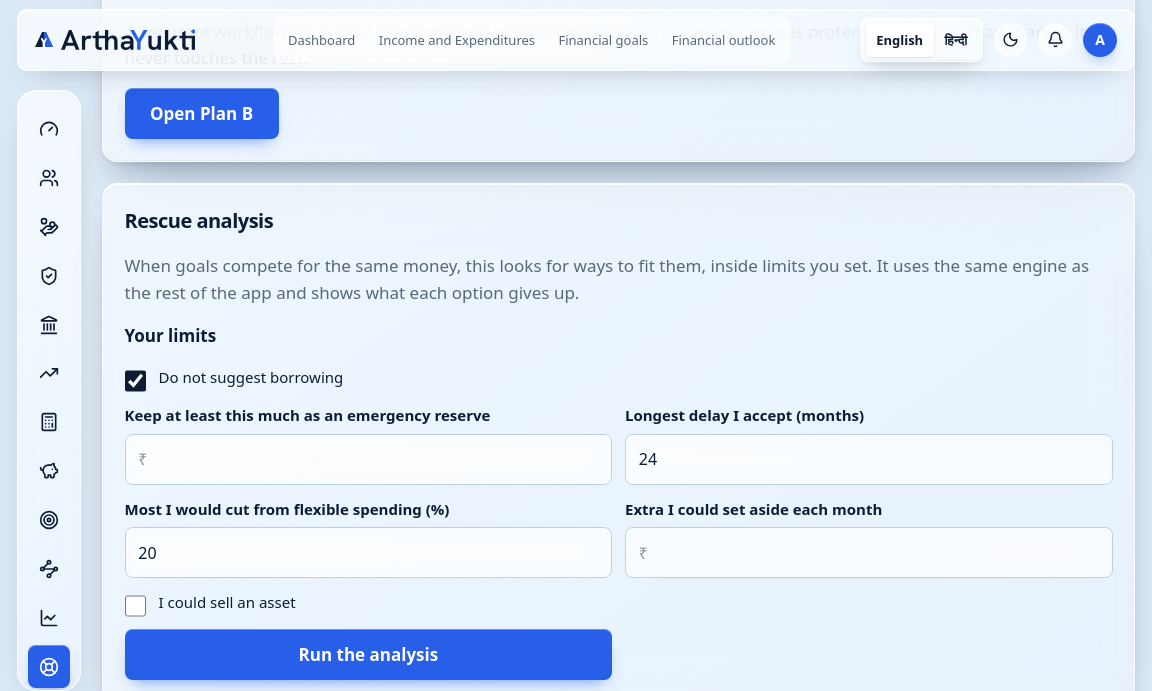
Test: rescue analysis › says so when the analysis fails, and shows no made-up options
The image size is (1152, 691).
(page scrolled)
Step 1. Click the button "Run the analysis" → (368, 655), box top-left (124, 630), bottom-right (612, 680)
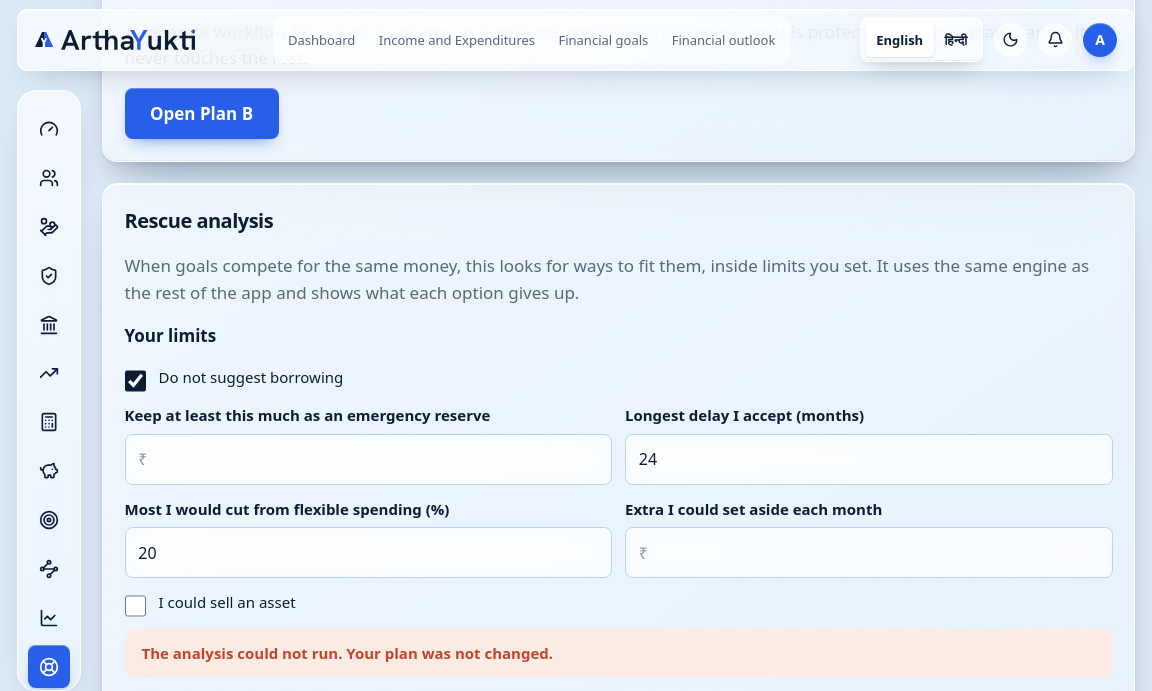
Now the text "The analysis could not run. Your plan was not changed." is shown, box top-left (124, 630), bottom-right (1113, 678)
